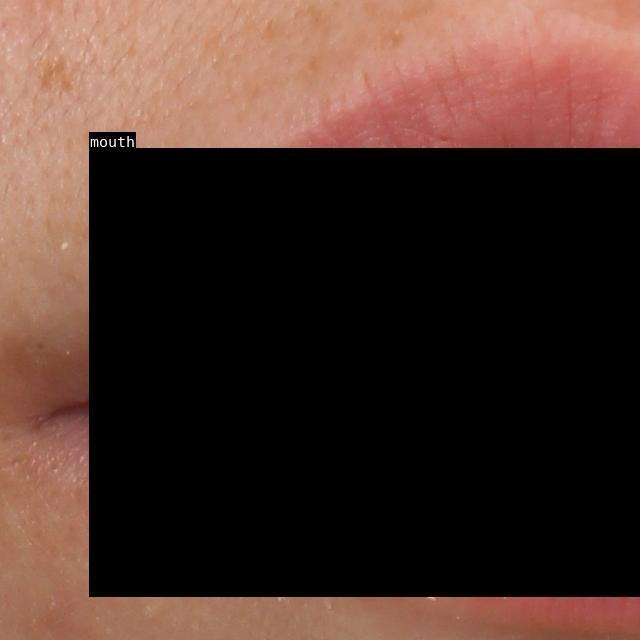melasma: (35, 49, 83, 103)
